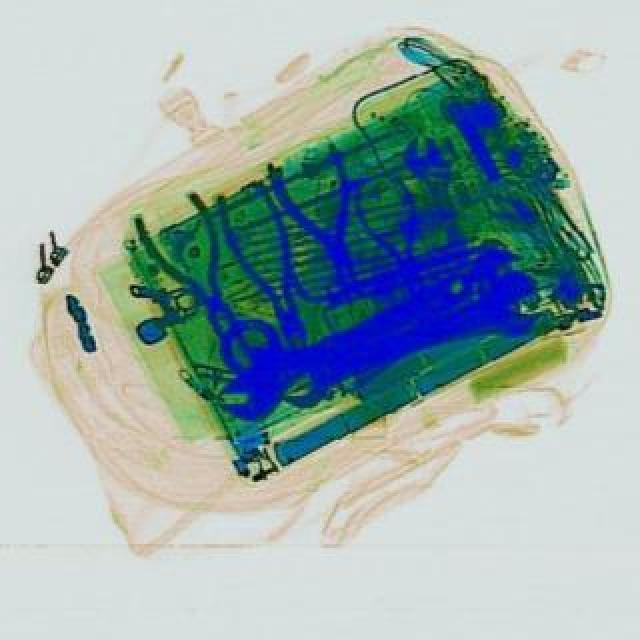scissors: (202, 258, 490, 434), (268, 268, 560, 422), (400, 130, 490, 274)
wrench: (132, 192, 276, 368), (212, 180, 332, 364), (264, 142, 392, 306), (348, 172, 448, 300)
